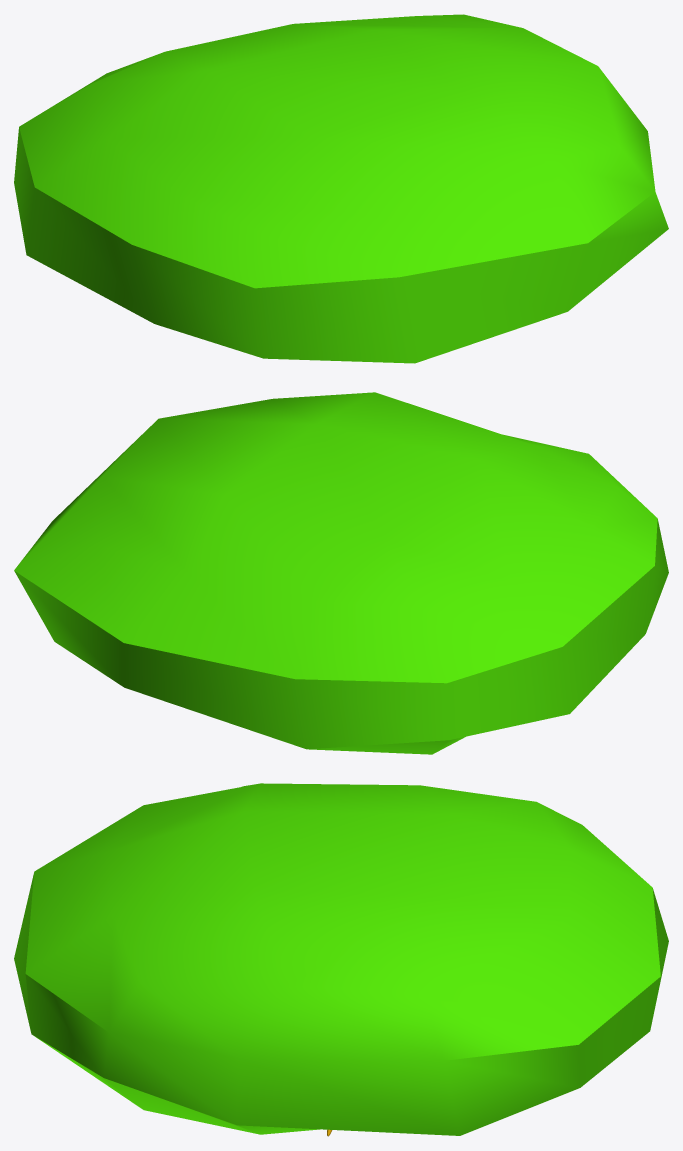
The model's file is tree model.fbx.
3 views of the same model, one above another, from view 1: azimuth 30°, elevation 25°; view 2: azimuth 150°, elevation 25°; view 3: azimuth 270°, elevation 25° (orthographic). The views are drawn at different scales.
Visible parts, largest first — view 1: Sphere; view 2: Sphere; view 3: Sphere.
Part boxes in pixels (x1,y1,x2,y2): Sphere: (14,14,668,363); Sphere: (14,392,668,754); Sphere: (14,783,668,1135).
Bounding box in the file's own units: 2225 × 1031 × 2280.
